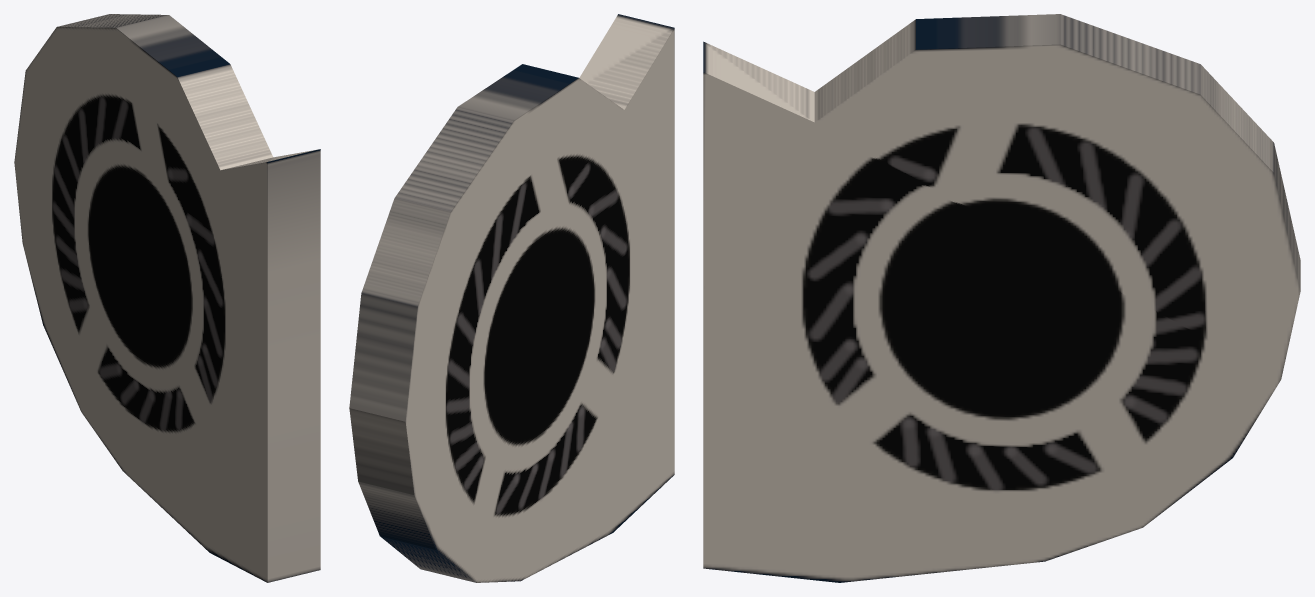
The model's file is Ventilador pc.fbx.
3 views of the same model, side by side, from view 1: azimuth 30°, elevation 25°; view 2: azimuth 150°, elevation 25°; view 3: azimuth 270°, elevation 25° (orthographic). The views are drawn at different scales.
Parts seen in each view (by area): view 1: Ventilador; view 2: Ventilador; view 3: Ventilador.
Boxes of the visible parts, x1,y1,x2,y2 form: Ventilador: (14, 14, 320, 582); Ventilador: (349, 14, 674, 582); Ventilador: (703, 14, 1300, 582).
Bounding box in the file's own units: 12.61 × 104 × 104.
